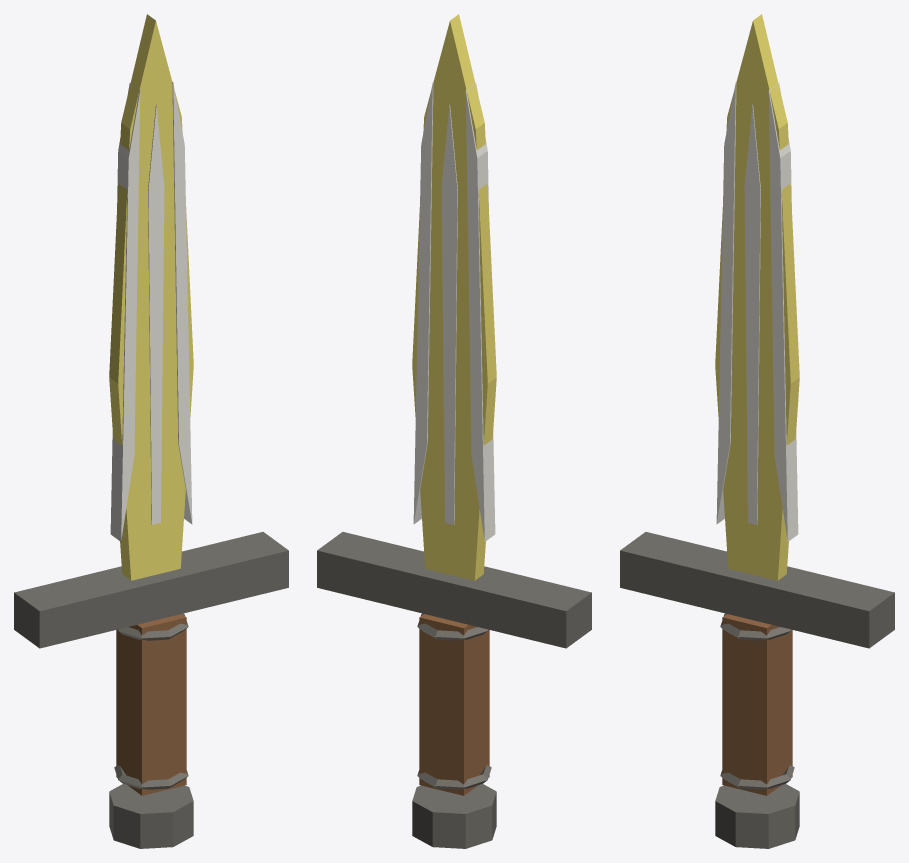
File: t7_one_handed_sword.glb
3 views of the same model, side by side, from view 1: azimuth 30°, elevation 25°; view 2: azimuth 150°, elevation 25°; view 3: azimuth 330°, elevation 25° (orthographic).
Visible parts, largest first — view 1: Blade, Guard, Grip, LeftBladeEdge, Fuller, RightBladeEdge, Pommel, BottomGripRing, TopGripRing; view 2: Blade, Guard, Grip, LeftBladeEdge, Fuller, RightBladeEdge, Pommel, BottomGripRing, TopGripRing; view 3: Blade, Guard, Grip, RightBladeEdge, Fuller, LeftBladeEdge, Pommel, BottomGripRing, TopGripRing.
Part boxes in pixels (x1=…): Blade: x1=109, y1=14, x2=193, y2=580; Guard: x1=14, y1=532, x2=288, y2=648; Grip: x1=116, y1=614, x2=186, y2=795; LeftBladeEdge: x1=110, y1=83, x2=140, y2=541; Fuller: x1=148, y1=104, x2=164, y2=524; RightBladeEdge: x1=172, y1=82, x2=192, y2=524; Pommel: x1=109, y1=783, x2=193, y2=848; BottomGripRing: x1=114, y1=765, x2=188, y2=789; TopGripRing: x1=118, y1=613, x2=188, y2=640; Blade: x1=412, y1=14, x2=496, y2=580; Guard: x1=317, y1=532, x2=591, y2=648; Grip: x1=419, y1=614, x2=489, y2=795; LeftBladeEdge: x1=465, y1=83, x2=495, y2=541; Fuller: x1=441, y1=104, x2=457, y2=524; RightBladeEdge: x1=413, y1=82, x2=433, y2=524; Pommel: x1=412, y1=783, x2=496, y2=848; BottomGripRing: x1=417, y1=765, x2=491, y2=789; TopGripRing: x1=417, y1=613, x2=487, y2=640; Blade: x1=715, y1=14, x2=799, y2=580; Guard: x1=620, y1=532, x2=894, y2=648; Grip: x1=722, y1=614, x2=792, y2=795; RightBladeEdge: x1=768, y1=83, x2=798, y2=541; Fuller: x1=744, y1=104, x2=760, y2=524; LeftBladeEdge: x1=716, y1=82, x2=736, y2=524; Pommel: x1=715, y1=783, x2=799, y2=848; BottomGripRing: x1=720, y1=765, x2=794, y2=789; TopGripRing: x1=720, y1=613, x2=790, y2=640.
Bounding box in the file's own units: 0.56 × 1.75 × 0.17.
